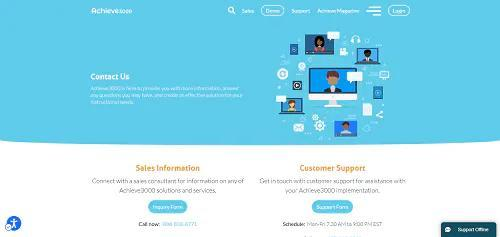button: (441, 223, 498, 237), (312, 200, 354, 215), (149, 201, 189, 215), (262, 6, 286, 17), (389, 6, 412, 17)
icon: (6, 216, 22, 233), (365, 6, 384, 18), (229, 7, 239, 17)
